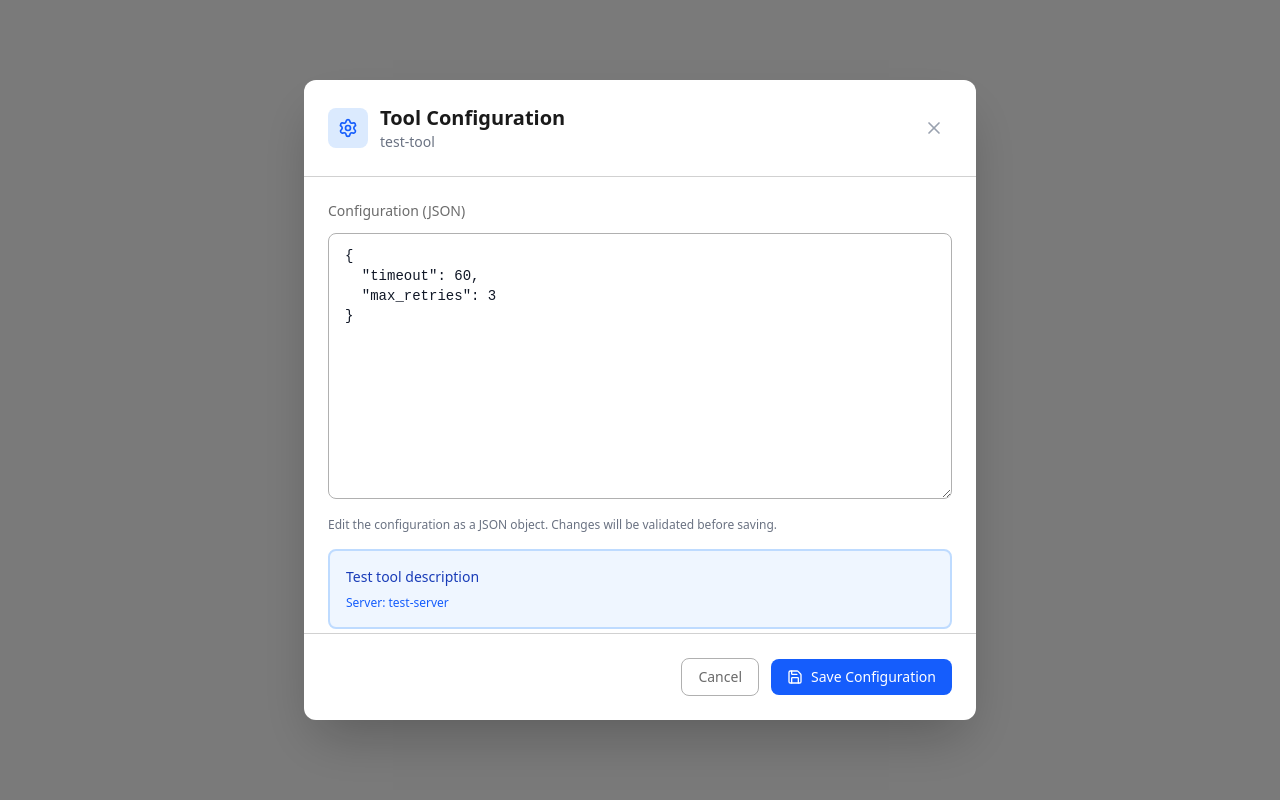
Test: ToolConfigModal › should handle save error
Click the button with test id "save-config-button" at coordinates (862, 677), box top-left (771, 659), bottom-right (952, 695)
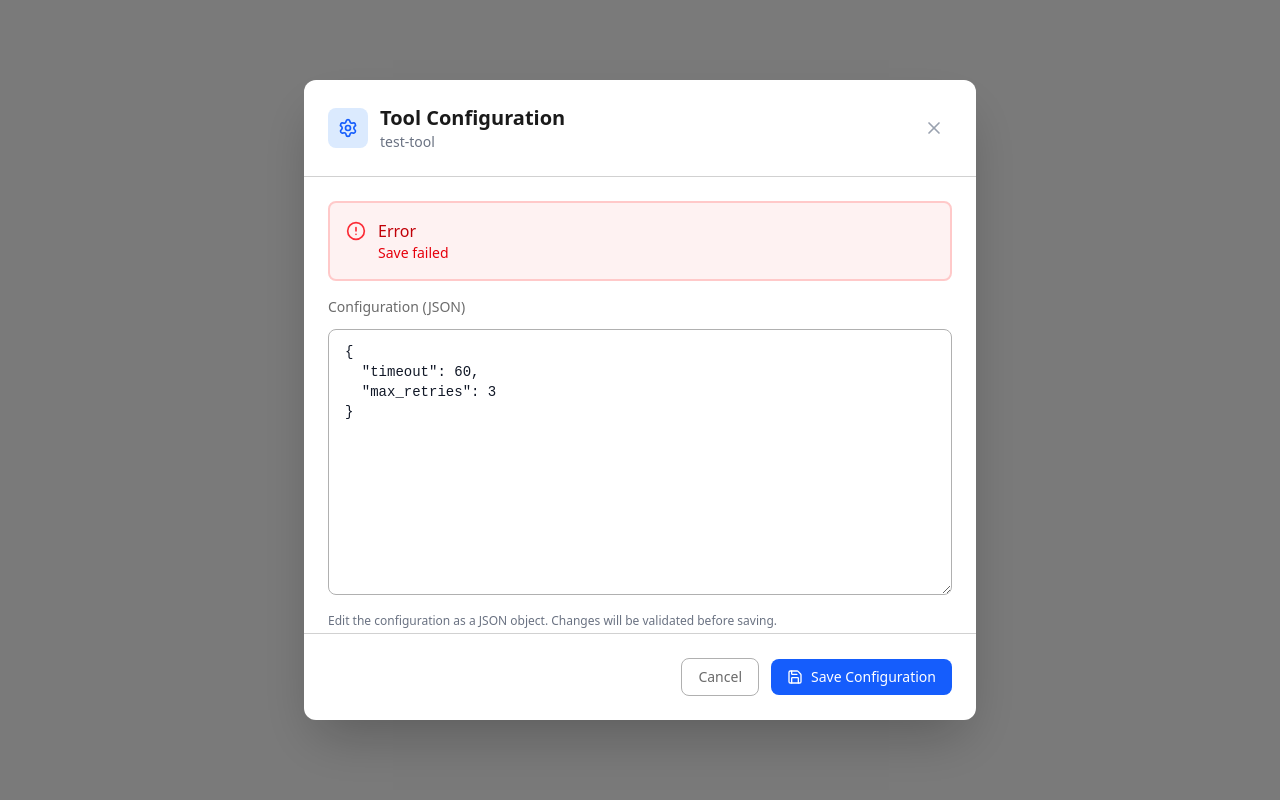
Check: the element with test id "config-error" is shown, box top-left (328, 201), bottom-right (952, 281)
Check: the text "Save failed" is shown, box top-left (378, 243), bottom-right (449, 263)
